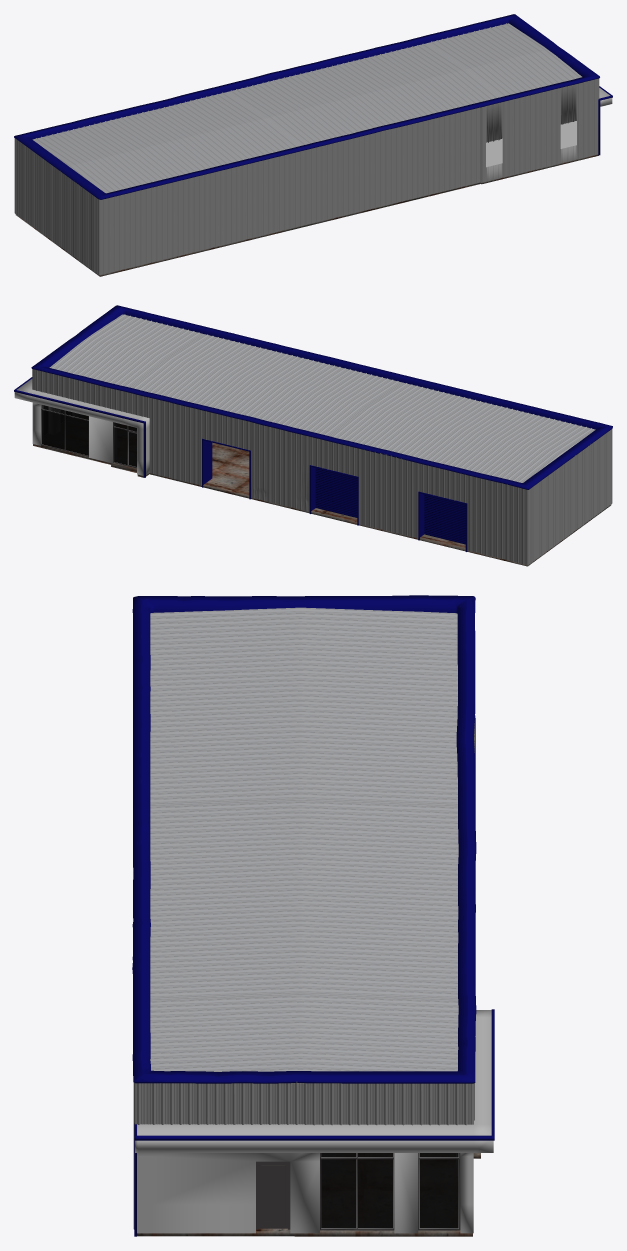
Rendered from highbay_building.dae.
3 renders of one model, top to bottom at view 1: azimuth 30°, elevation 25°; view 2: azimuth 150°, elevation 25°; view 3: azimuth 270°, elevation 25°, orthographic. The views are drawn at different scales.
Visible parts, largest first — view 1: Cube.003, Cube.013, Plane.006, Cube, CTRL_Hole.003, CTRL_Hole.004; view 2: Cube.013, Cube.003, Plane.006, Cube, Cube.001, Window.003, Plane.001, Plane.002, Cube.008, Window.002, Cube.011; view 3: Cube.013, Cube.001, Plane.006, Cube.003, Window, Window.001, Cube.011, Door.001, Cube.
Part boxes in pixels (left/top/right/bottom): Cube.003: left=14, top=78, right=599, bottom=275; Cube.013: left=32, top=23, right=581, bottom=193; Plane.006: left=14, top=14, right=599, bottom=199; Cube: left=16, top=154, right=598, bottom=276; CTRL_Hole.003: left=486, top=138, right=502, bottom=167; CTRL_Hole.004: left=560, top=121, right=576, bottom=148; Cube.013: left=49, top=314, right=595, bottom=482; Cube.003: left=32, top=369, right=612, bottom=564; Plane.006: left=31, top=305, right=612, bottom=489; Cube: left=33, top=442, right=611, bottom=566; Cube.001: left=14, top=379, right=149, bottom=475; Window.003: left=41, top=404, right=88, bottom=456; Plane.001: left=315, top=468, right=357, bottom=517; Plane.002: left=424, top=494, right=465, bottom=544; Cube.008: left=202, top=438, right=467, bottom=551; Window.002: left=113, top=422, right=136, bottom=468; Cube.011: left=14, top=377, right=145, bottom=477; Cube.013: left=150, top=607, right=458, bottom=1071; Cube.001: left=135, top=1010, right=493, bottom=1233; Plane.006: left=132, top=595, right=476, bottom=1083; Cube.003: left=133, top=723, right=474, bottom=1229; Window: left=320, top=1153, right=394, bottom=1230; Window.001: left=418, top=1153, right=460, bottom=1230; Cube.011: left=134, top=1009, right=494, bottom=1236; Door.001: left=258, top=1162, right=287, bottom=1228; Cube: left=137, top=1153, right=480, bottom=1236.
Size of the model in its own units: 48.94 by 15.05 by 7.28.
